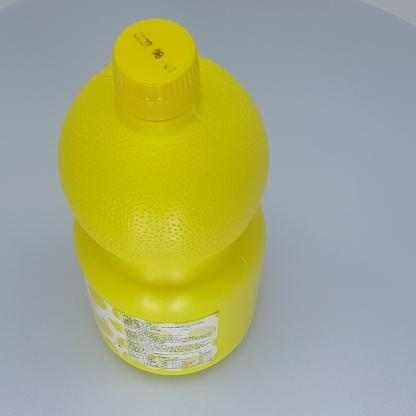-------: (58, 19, 269, 375)
